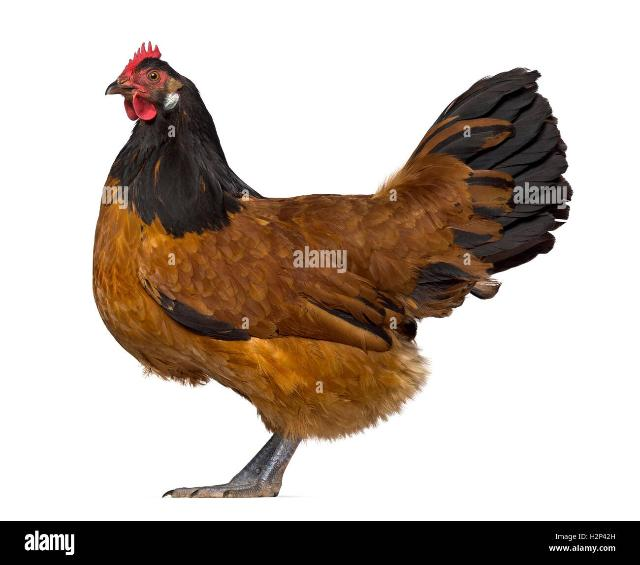Chicken: (92, 38, 574, 498)
